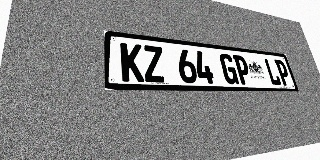4: (193, 50, 215, 84)
6: (176, 49, 198, 83)
G: (219, 53, 239, 84)
K: (120, 42, 144, 82)
L: (263, 58, 282, 85)
P: (232, 55, 252, 85), (274, 59, 292, 86)
Z: (142, 45, 166, 83)
